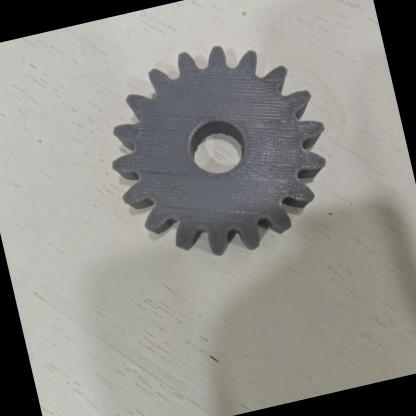gear: (72, 13, 360, 294)
